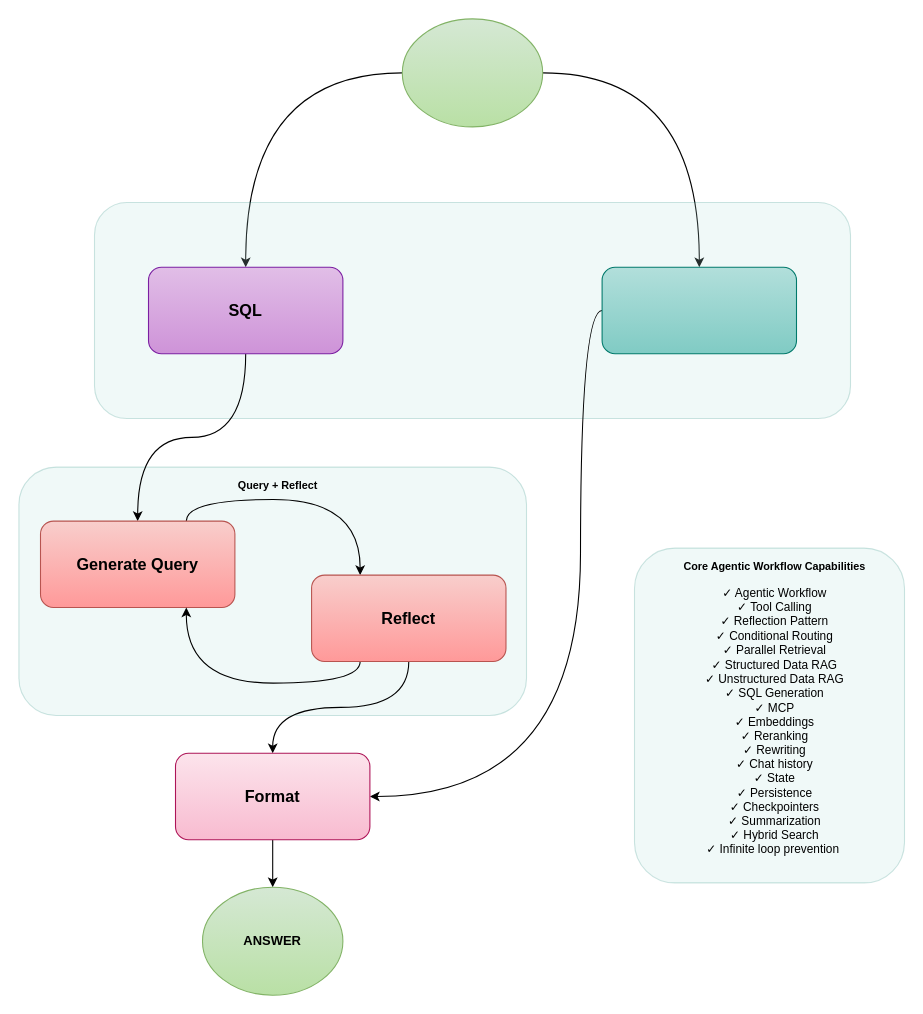
The diagram is 923 pixels wide and 1014 high, and some of its shapes have lost their labels. The shapes that lost their labels are listed below. From the top down, each one's box as (x1, y1, x2, y2) in pixels, then its label:
(401, 18, 543, 127): PROMPT
(93, 201, 850, 418): Retrieval
(601, 266, 796, 354): PDF
